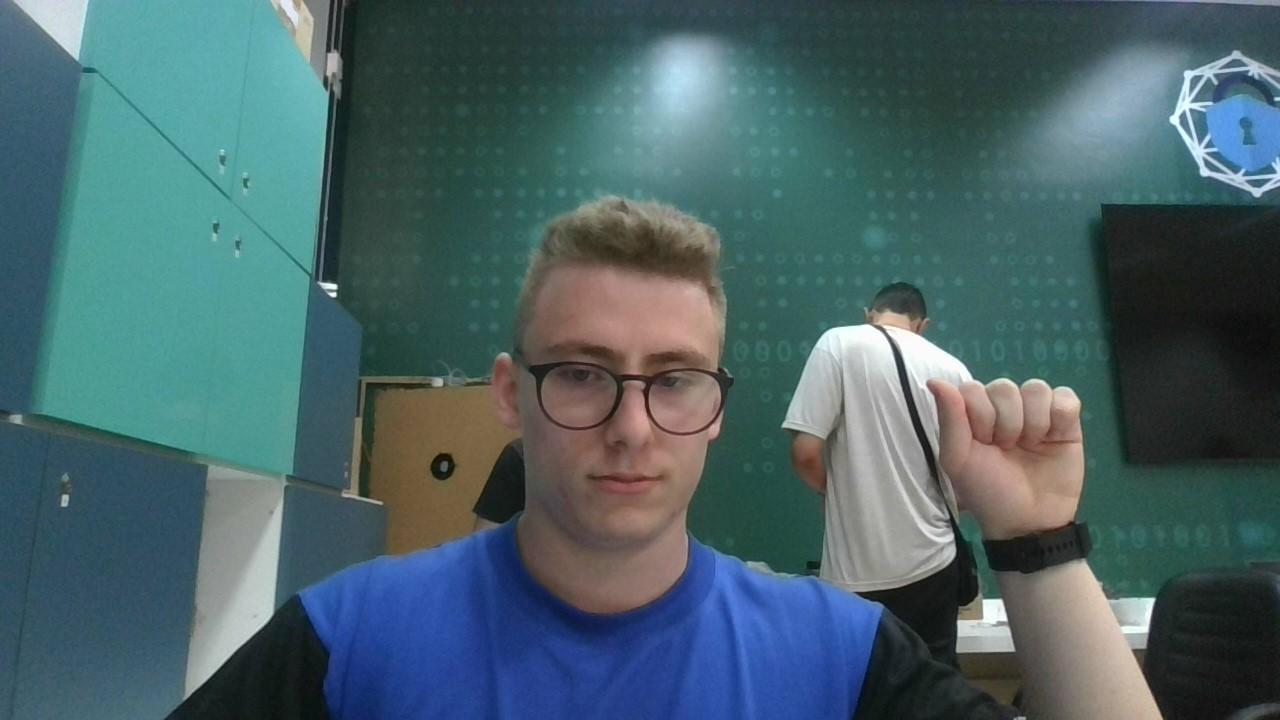A: (922, 376, 1092, 522)
